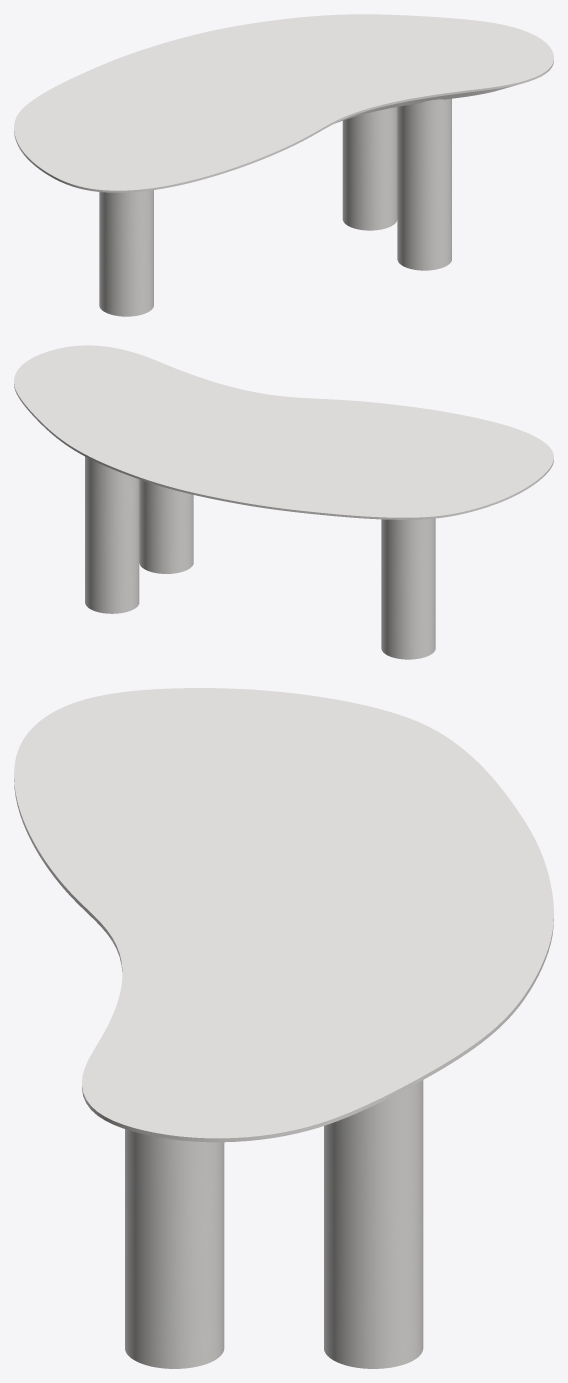
Rendered from purewhite_leaf1_facet_cylinder.glb.
The picture shows the model from 3 angles, top to bottom: view 1: azimuth 30°, elevation 25°; view 2: azimuth 150°, elevation 25°; view 3: azimuth 270°, elevation 25°; orthographic projection. The views are drawn at different scales.
Parts seen in each view (by area): view 1: facet_leaf1, cylinder; view 2: facet_leaf1, cylinder; view 3: facet_leaf1, cylinder.
Boxes of the visible parts, x1=… form: facet_leaf1: x1=14, y1=14, x2=553, y2=192; cylinder: x1=99, y1=98, x2=451, y2=316; facet_leaf1: x1=14, y1=345, x2=553, y2=519; cylinder: x1=85, y1=456, x2=435, y2=659; facet_leaf1: x1=14, y1=688, x2=553, y2=1142; cylinder: x1=125, y1=1080, x2=423, y2=1368.
Bounding box in the file's own units: 7.5 × 2.52 × 3.8.
1 material, 1 textured.
